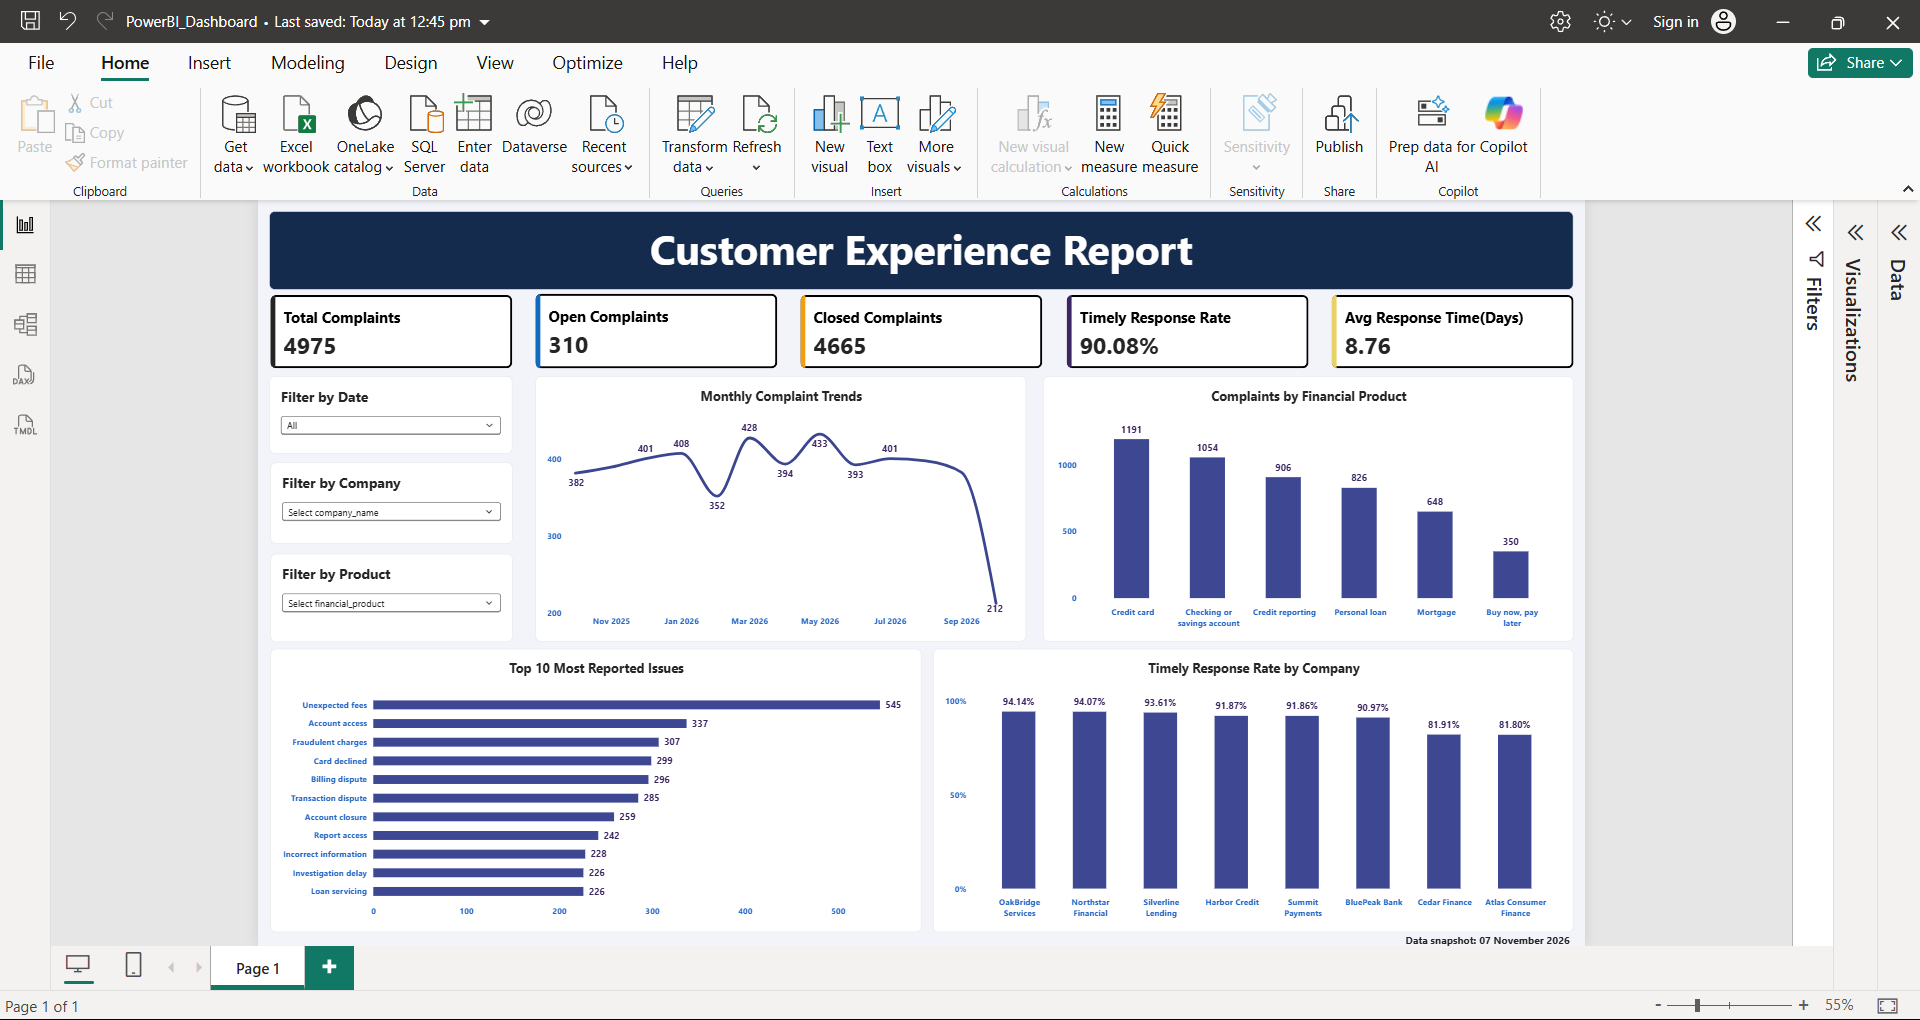

The dashboard page shown, as its layout file describes it:
{"tool":"powerbi","page":{"name":"Page 1","canvas":[1920,1080],"ordinal":0},"visuals":[{"type":"cardVisual","fields":{"Data":["cleaned_data.Total Complaints"]},"box":[18,136.8,350,106],"z":0},{"type":"cardVisual","fields":{"Data":["cleaned_data.Open Complaints"]},"box":[402,135.8,350,108],"z":1000},{"type":"cardVisual","fields":{"Data":["cleaned_data.Closed Complaints"]},"box":[786,136.8,350,106],"z":2000},{"type":"cardVisual","fields":{"Data":["cleaned_data.Timely Response Rate"]},"box":[1170,136.8,350,106],"z":3000},{"type":"cardVisual","fields":{"Data":["cleaned_data.Average Response Time"]},"box":[1554,136.8,350,106],"z":4000},{"type":"textbox","box":[15.7,15.7,1888.2,113.7],"z":5000},{"type":"listSlicer","title":"Filter by Company","fields":{"Values":["cleaned_data.company_name"]},"box":[18.2,380,350,117.3],"z":6000},{"type":"listSlicer","title":"Filter by Product","fields":{"Values":["cleaned_data.financial_product"]},"box":[18.2,511.8,350,128.2],"z":7000},{"type":"listSlicer","title":"Filter by Date","fields":{"Values":["cleaned_data.date_received.Variation.Date Hierarchy.Year","cleaned_data.date_received.Variation.Date Hierarchy.Month","cleaned_data.date_received.Variation.Date Hierarchy.Day"]},"box":[16,256,352,112],"z":8000},{"type":"lineChart","title":"Monthly Complaint Trends","fields":{"Category":["cleaned_data.Month Start"],"Y":["cleaned_data.Total Complaints"]},"box":[402,256,710,384],"z":9000},{"type":"clusteredColumnChart","title":"Complaints by Financial Product","fields":{"Category":["cleaned_data.financial_product"],"Y":["cleaned_data.Total Complaints"]},"box":[1136,256,768,384],"z":10000},{"type":"clusteredBarChart","title":"Top 10 Most Reported Issues","fields":{"Category":["cleaned_data.issue_category"],"Y":["cleaned_data.Total Complaints"]},"box":[17.5,650,942.5,410],"z":11000},{"type":"clusteredColumnChart","title":"Timely Response Rate by Company","fields":{"Category":["cleaned_data.company_name"],"Y":["cleaned_data.Timely Response Rate"]},"box":[977.5,650,927.5,410],"z":12000},{"type":"textbox","box":[1661,1060,259,20],"z":13000}]}

Visuals, with their boxes on the page's 1920x1080 design canvas (x1, y1, x2, y2). These are canvas units, not pixel positions in the 1920x1020 screenshot, which may show the page scaled, cropped or inside an application window:
cardVisual - cleaned_data.Total Complaints: [left=18, top=137, right=368, bottom=243]
cardVisual - cleaned_data.Open Complaints: [left=402, top=136, right=752, bottom=244]
cardVisual - cleaned_data.Closed Complaints: [left=786, top=137, right=1136, bottom=243]
cardVisual - cleaned_data.Timely Response Rate: [left=1170, top=137, right=1520, bottom=243]
cardVisual - cleaned_data.Average Response Time: [left=1554, top=137, right=1904, bottom=243]
textbox: [left=16, top=16, right=1904, bottom=129]
"Filter by Company" listSlicer: [left=18, top=380, right=368, bottom=497]
"Filter by Product" listSlicer: [left=18, top=512, right=368, bottom=640]
"Filter by Date" listSlicer: [left=16, top=256, right=368, bottom=368]
"Monthly Complaint Trends" lineChart: [left=402, top=256, right=1112, bottom=640]
"Complaints by Financial Product" clusteredColumnChart: [left=1136, top=256, right=1904, bottom=640]
"Top 10 Most Reported Issues" clusteredBarChart: [left=18, top=650, right=960, bottom=1060]
"Timely Response Rate by Company" clusteredColumnChart: [left=978, top=650, right=1905, bottom=1060]
textbox: [left=1661, top=1060, right=1920, bottom=1080]
